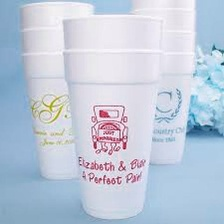paper_cup: (56, 10, 168, 224), (12, 0, 104, 183), (118, 0, 200, 170)
